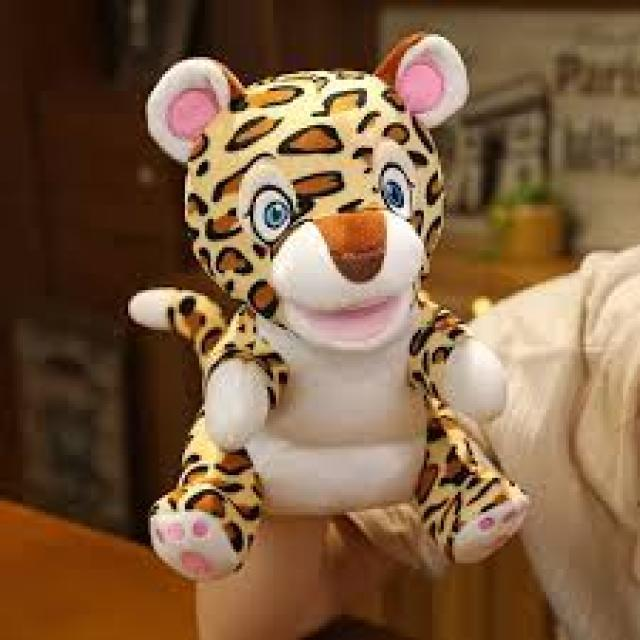soft-toy: (130, 35, 529, 579)
